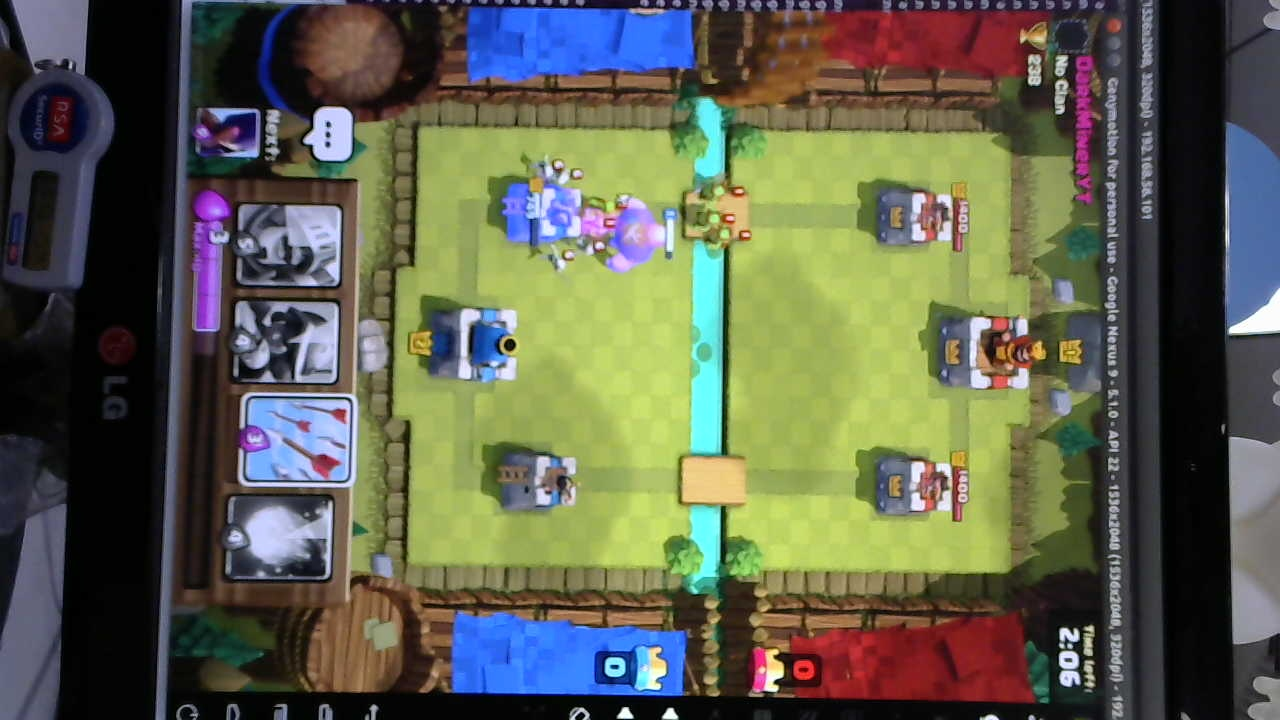arena: (497, 181, 583, 243), (500, 448, 580, 514)
earena: (875, 455, 955, 520), (873, 186, 954, 249)
eking: (936, 314, 1039, 394)
giant: (607, 192, 667, 274)
goblin: (580, 196, 629, 218)
king: (431, 298, 520, 387)
skeleton: (540, 235, 603, 277), (529, 154, 584, 187)
speargoblins: (688, 181, 749, 260)
